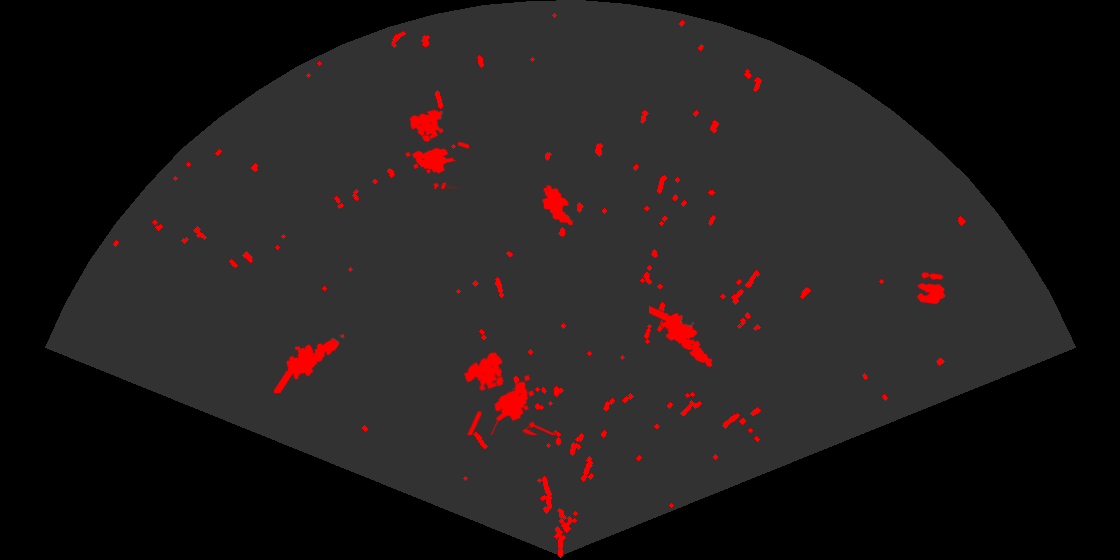AUV: (541, 184, 575, 227)
ball: (915, 271, 947, 306)
cage: (462, 351, 558, 435), (404, 108, 469, 189)
frogman: (274, 332, 346, 393), (649, 304, 714, 369)
